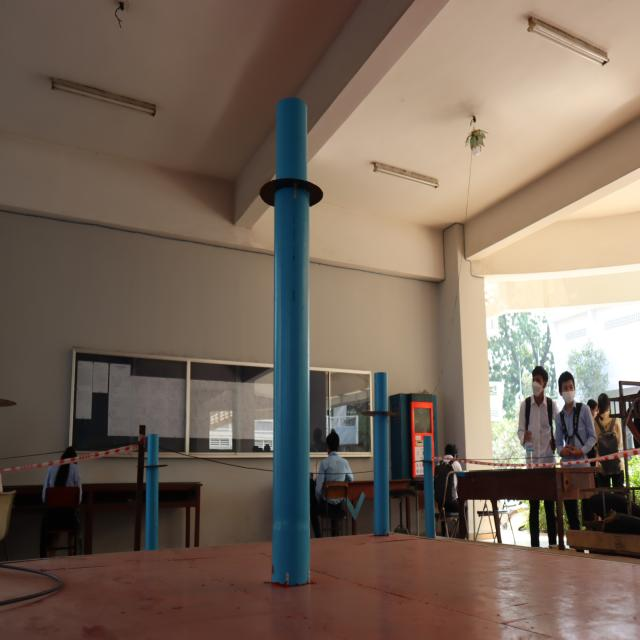pole: (258, 88, 330, 258), (360, 367, 396, 447), (412, 435, 444, 482), (143, 432, 168, 490)
